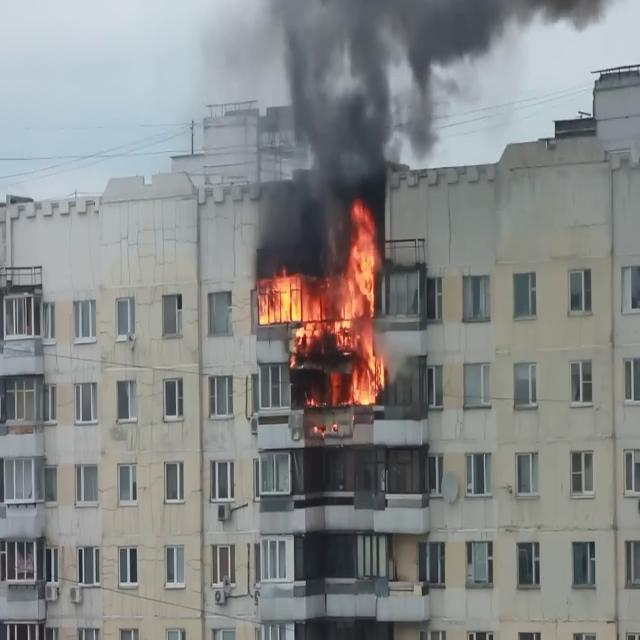Fire: (255, 205, 390, 408)
Smoke: (242, 0, 494, 238)
